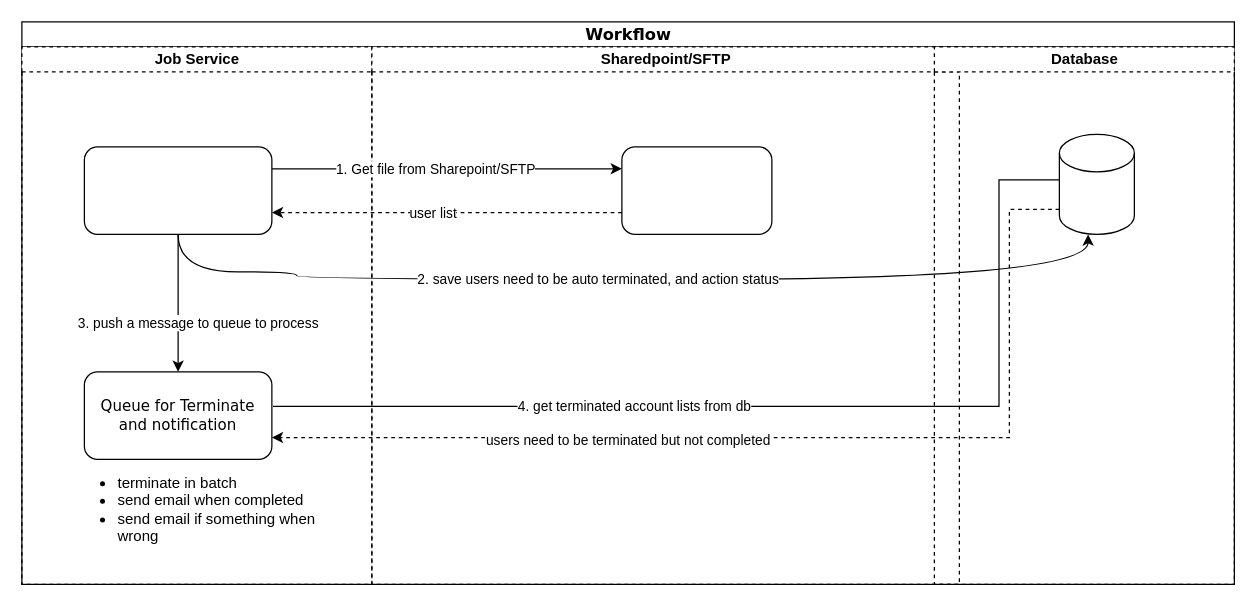
Some shapes in this 1256 by 606 pixel diagram are drawn without their labels. The centre of each missing label's shape, as x and y in pixels:
"Daily timer - Update terminated accounts list" belongs at (177,190).
"Server" belongs at (696,190).
